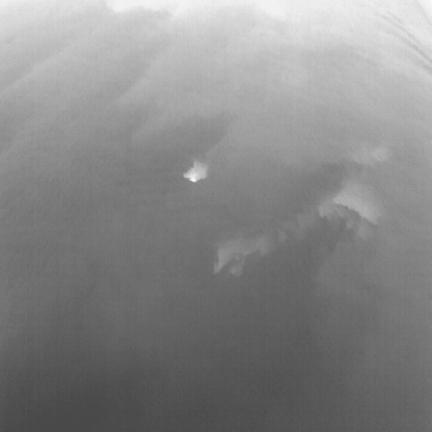flukeprints: (183, 159, 207, 182)
